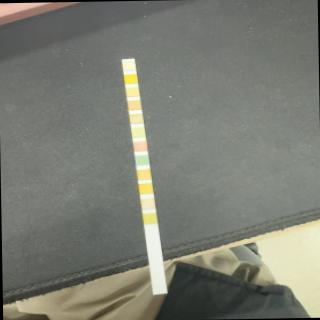mark: (142, 212, 156, 224), (134, 140, 146, 152), (140, 198, 154, 208), (129, 114, 143, 124), (126, 86, 140, 96), (122, 60, 136, 70), (139, 184, 152, 194), (137, 169, 150, 179), (132, 126, 145, 136), (124, 74, 137, 84), (136, 154, 148, 164), (128, 100, 140, 110)
